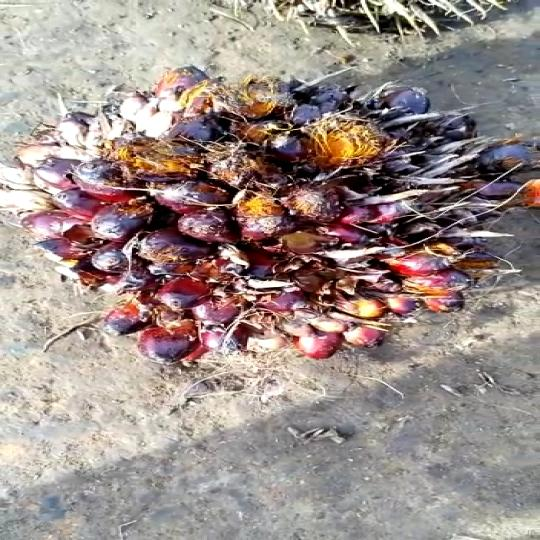masak: (35, 70, 540, 370)
